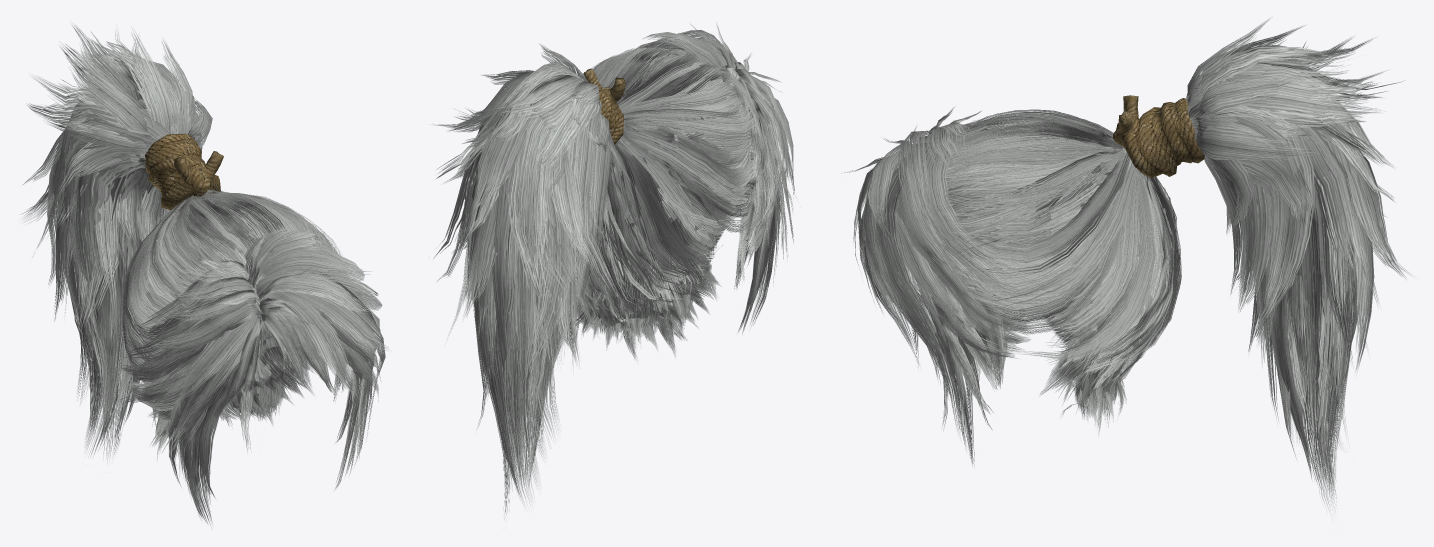
The model's file is hair010.glb.
3 renders of one model, left to right at view 1: azimuth 30°, elevation 25°; view 2: azimuth 150°, elevation 25°; view 3: azimuth 270°, elevation 25°, orthographic. The views are drawn at different scales.
Visible parts, largest first — view 1: hair, tie, scalp; view 2: hair, scalp, tie; view 3: hair, scalp, tie.
Boxes of the visible parts, bbox=[...] form: hair: bbox=[20, 20, 391, 529]; tie: bbox=[145, 133, 223, 210]; scalp: bbox=[138, 201, 343, 437]; hair: bbox=[430, 24, 796, 520]; scalp: bbox=[577, 58, 757, 340]; tie: bbox=[583, 68, 625, 144]; hair: bbox=[841, 17, 1413, 518]; scalp: bbox=[933, 120, 1142, 417]; tie: bbox=[1113, 95, 1204, 177].
Size of the model in its own units: 0.1791 by 0.3262 by 0.3379.
Materials: 3 (3 with a texture image).
